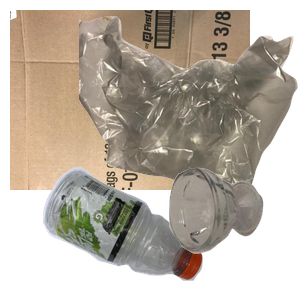cardboard: (10, 10, 250, 190)
glass: (166, 165, 300, 300)
plastic: (40, 165, 235, 300)
trash: (79, 14, 300, 194)
